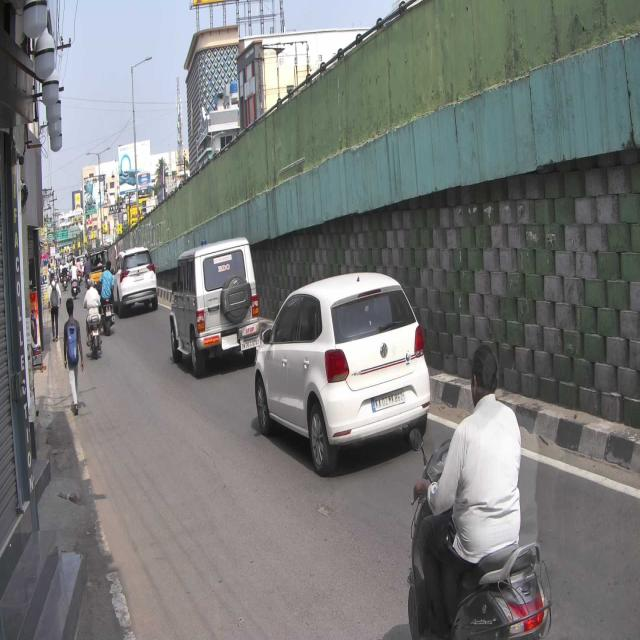single_rider: (405, 342, 554, 640)
